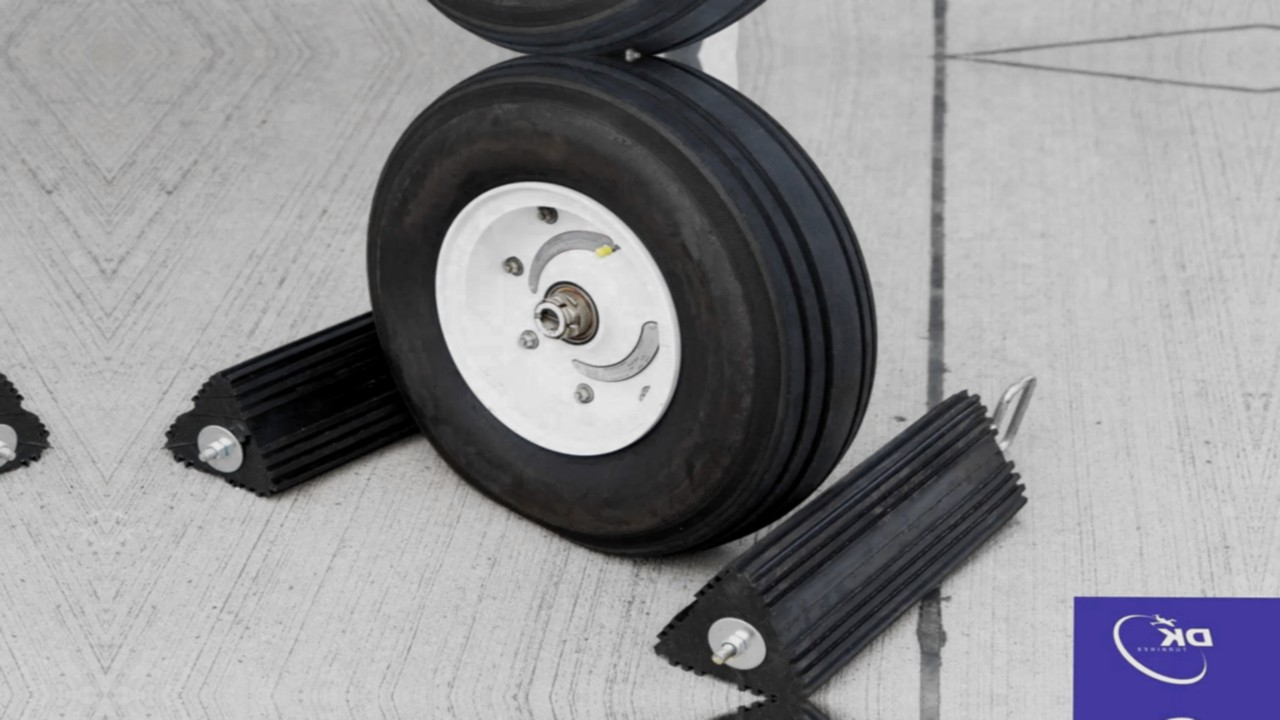chock: (651, 386, 1031, 700), (161, 298, 522, 500)
wheel: (361, 55, 882, 563)
